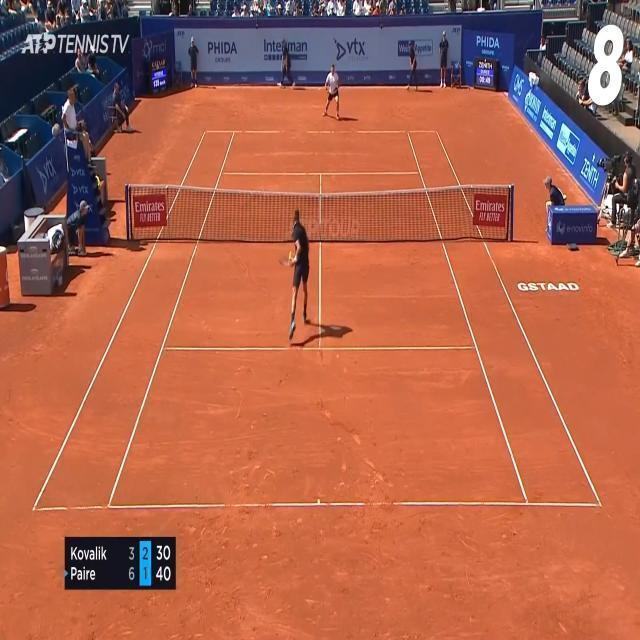court: (32, 130, 602, 512)
net: (124, 184, 514, 242)
player: (278, 208, 310, 342)
